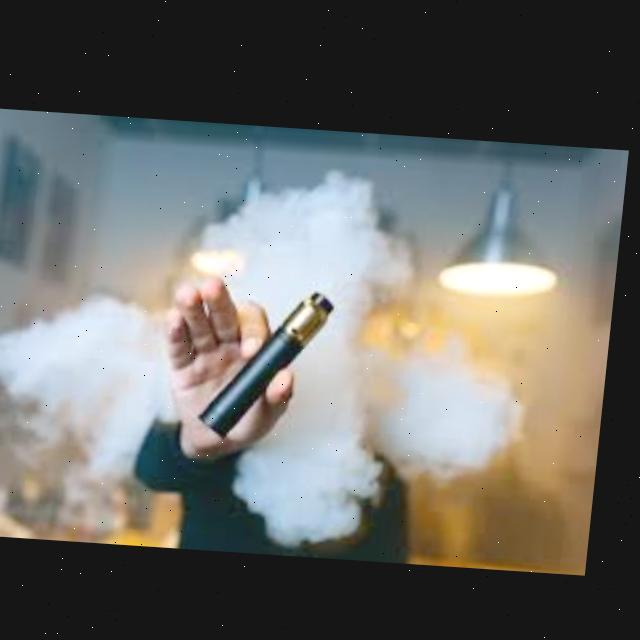vape: (204, 278, 342, 440)
